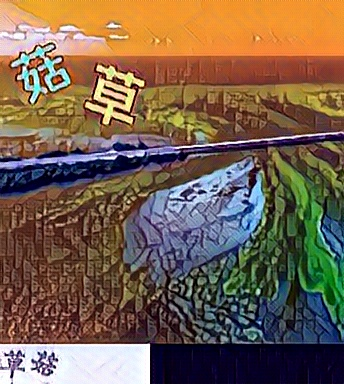B2DD: (83, 61, 147, 127)
B9BD: (7, 36, 71, 102)
